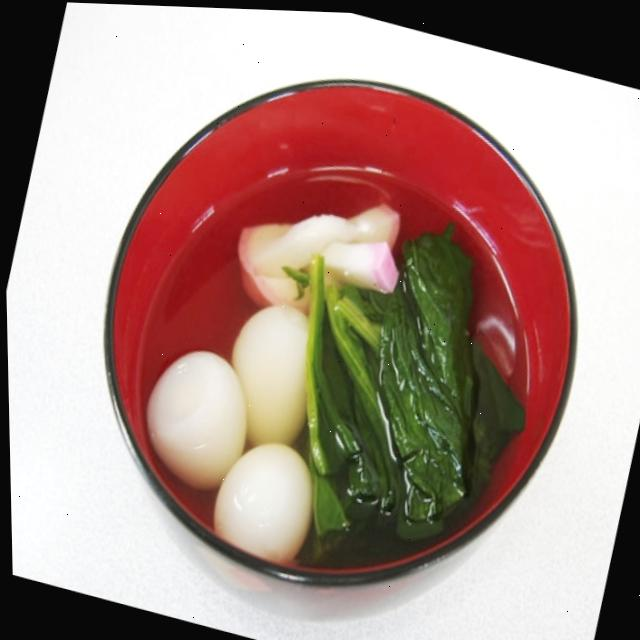汤锅炖物: (40, 21, 637, 640)
